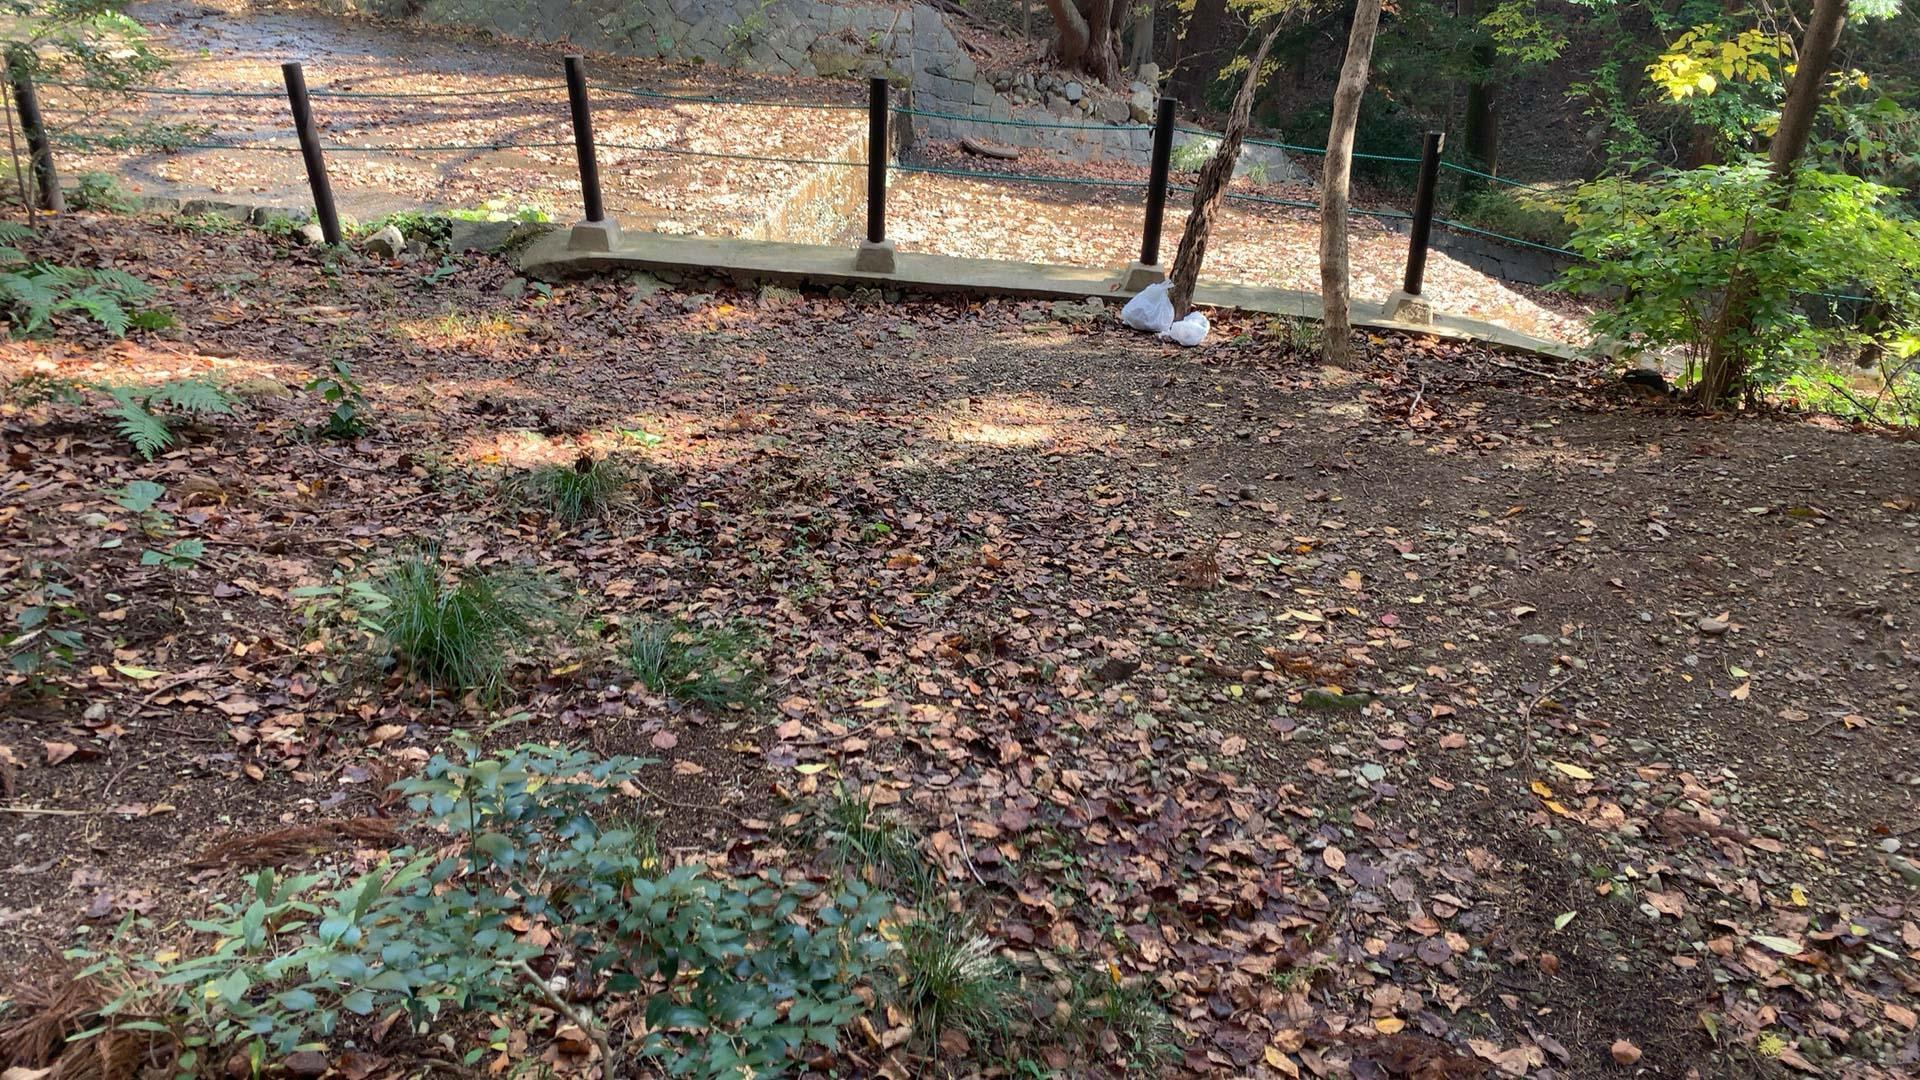white_bag: (1120, 278, 1178, 334), (1168, 309, 1212, 349)
